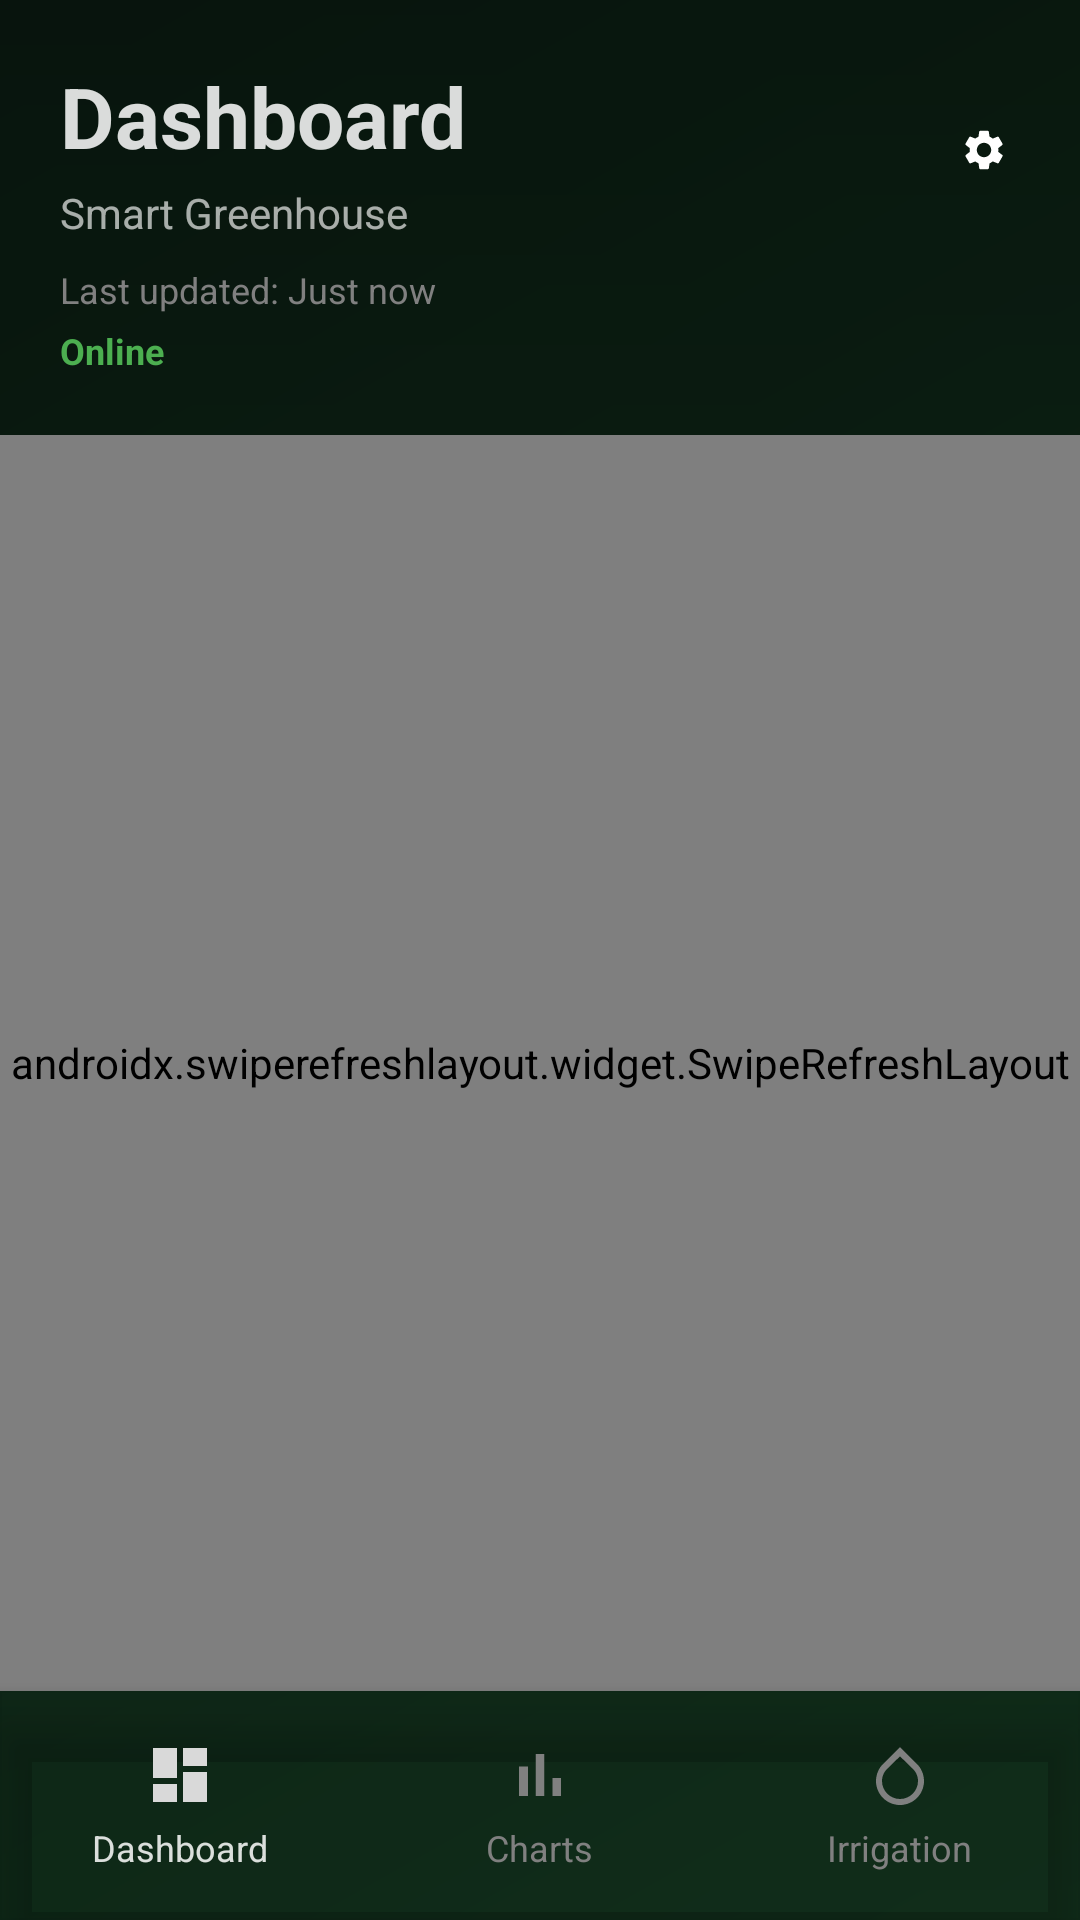

Where icons sit on this 1080x1920 app screen, as (left=x1, top=y1, right=x2, bottom=y2):
bar chart: (left=519, top=1754, right=561, bottom=1796)
settings: (left=965, top=130, right=1003, bottom=170)
water drop nav: (left=876, top=1747, right=924, bottom=1805)
